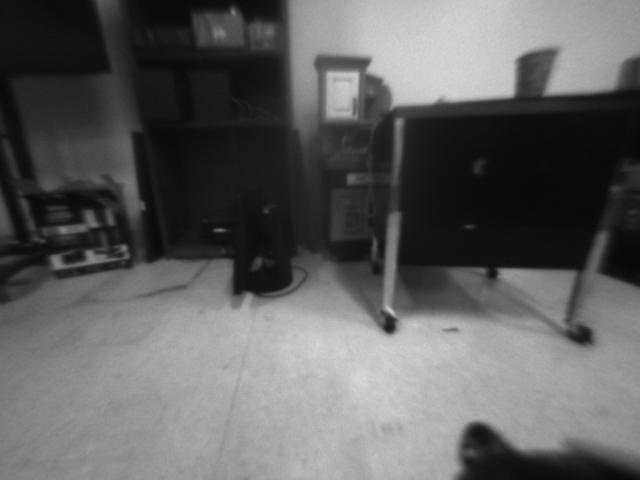coffee_cup: (513, 47, 561, 98)
